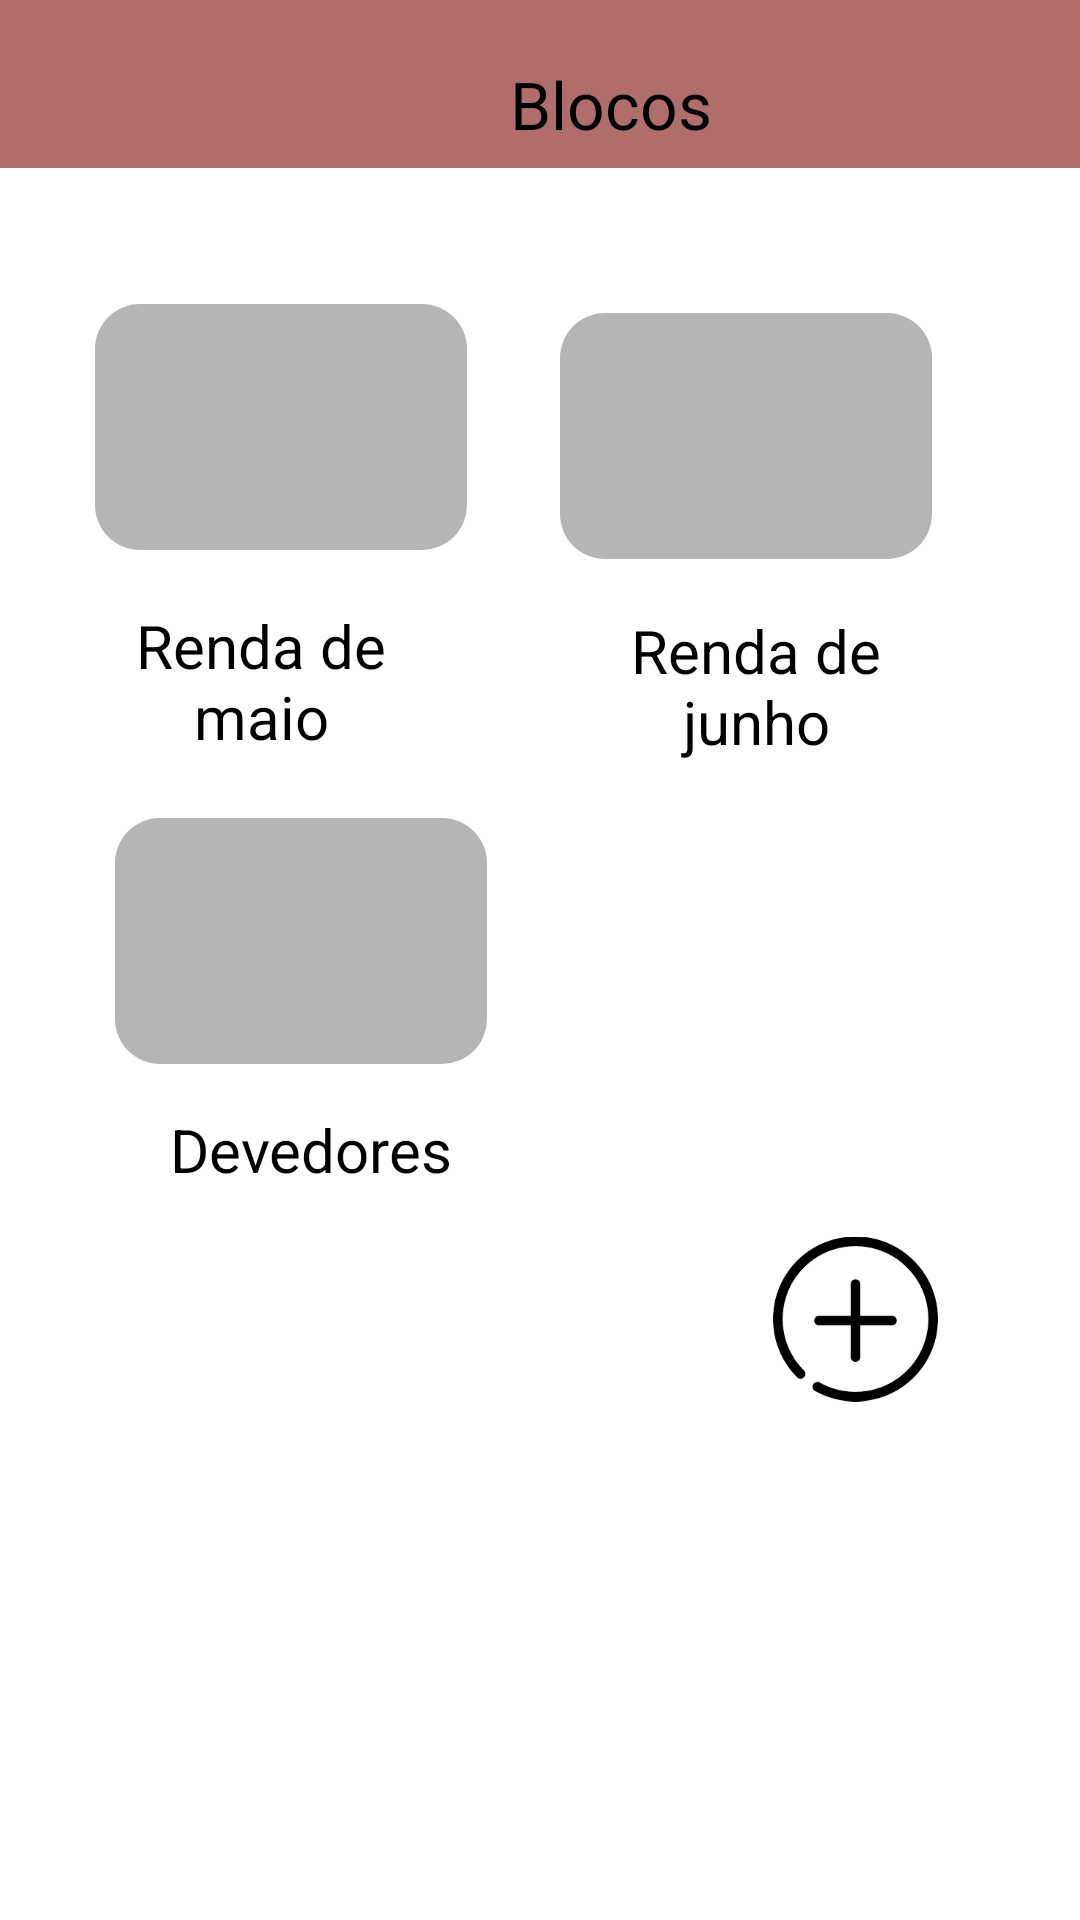

Icon bounding boxes for this 1080*1920 phone screenshot, format (x1=x1, y1=y1, x2=x2, y2=y2):
mais: (x1=773, y1=1237, x2=938, y2=1402)
